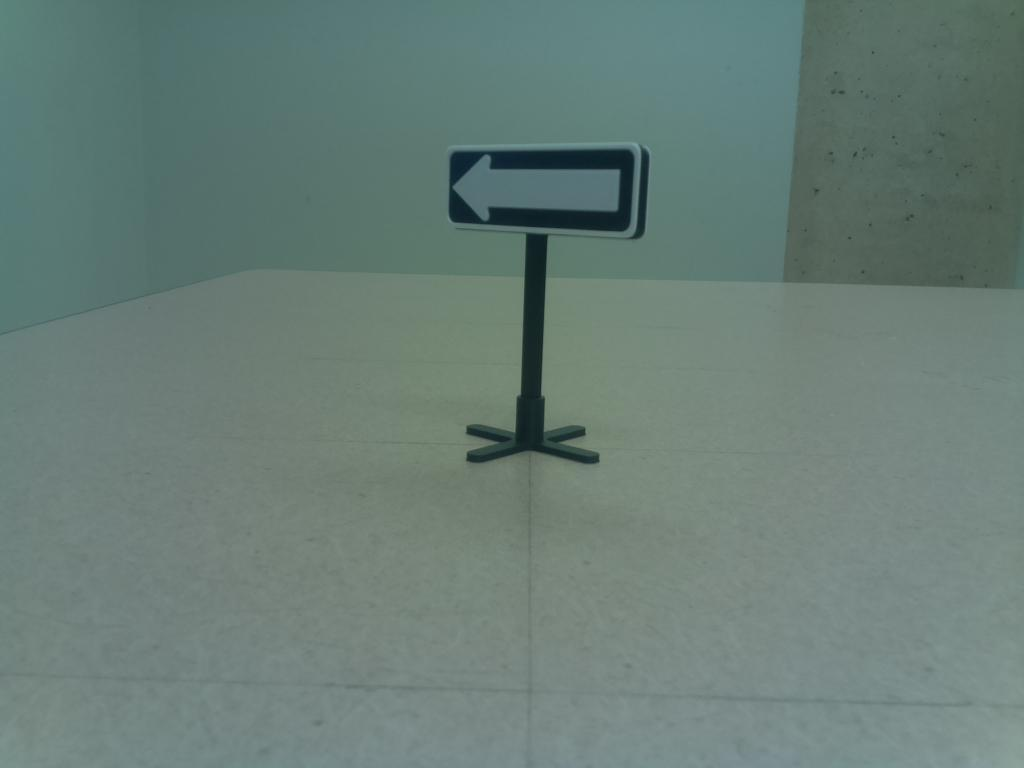sign_oneway_left: (442, 139, 656, 245)
